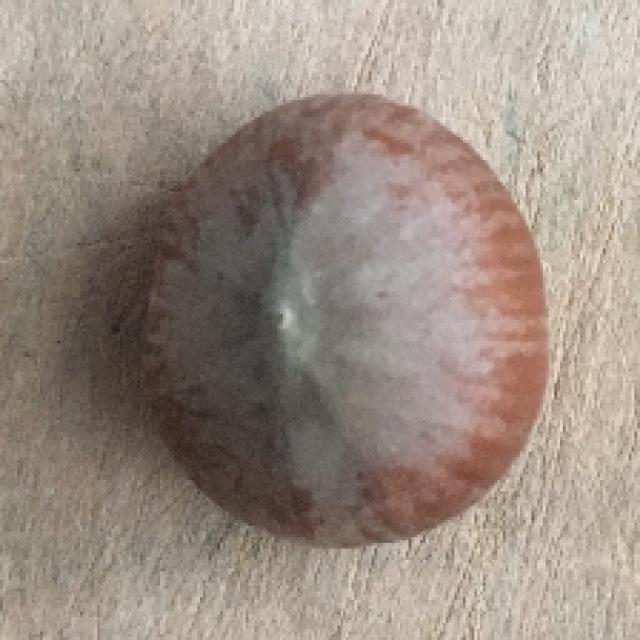qualityHazelnut: (134, 82, 549, 552)
